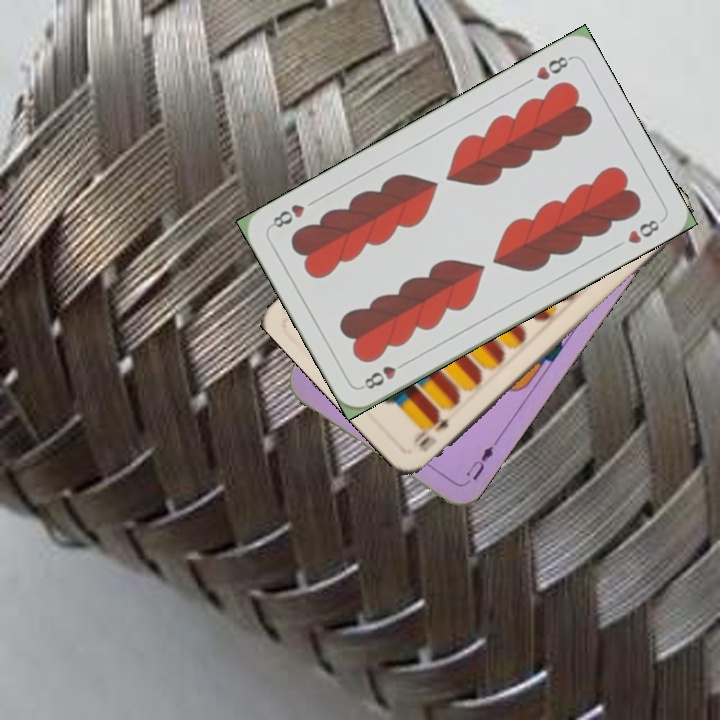E10: (409, 412, 452, 455)
EU: (461, 441, 497, 487)
H8: (358, 356, 412, 392), (532, 52, 574, 83)
